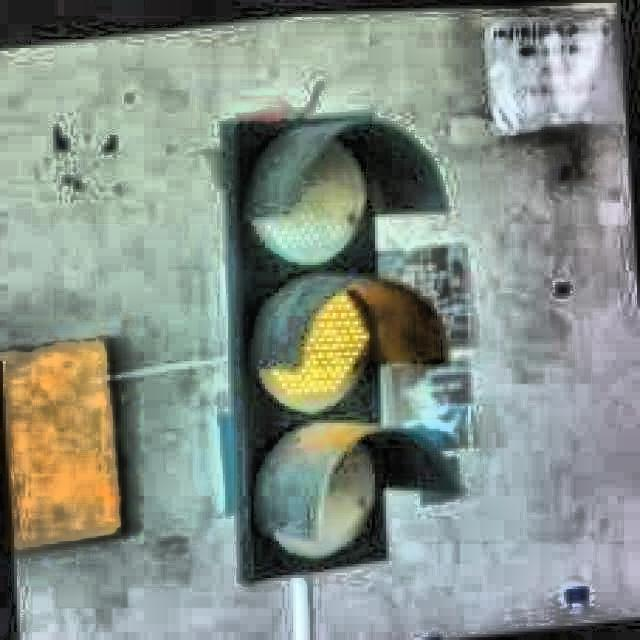yellow: (234, 109, 402, 585)
